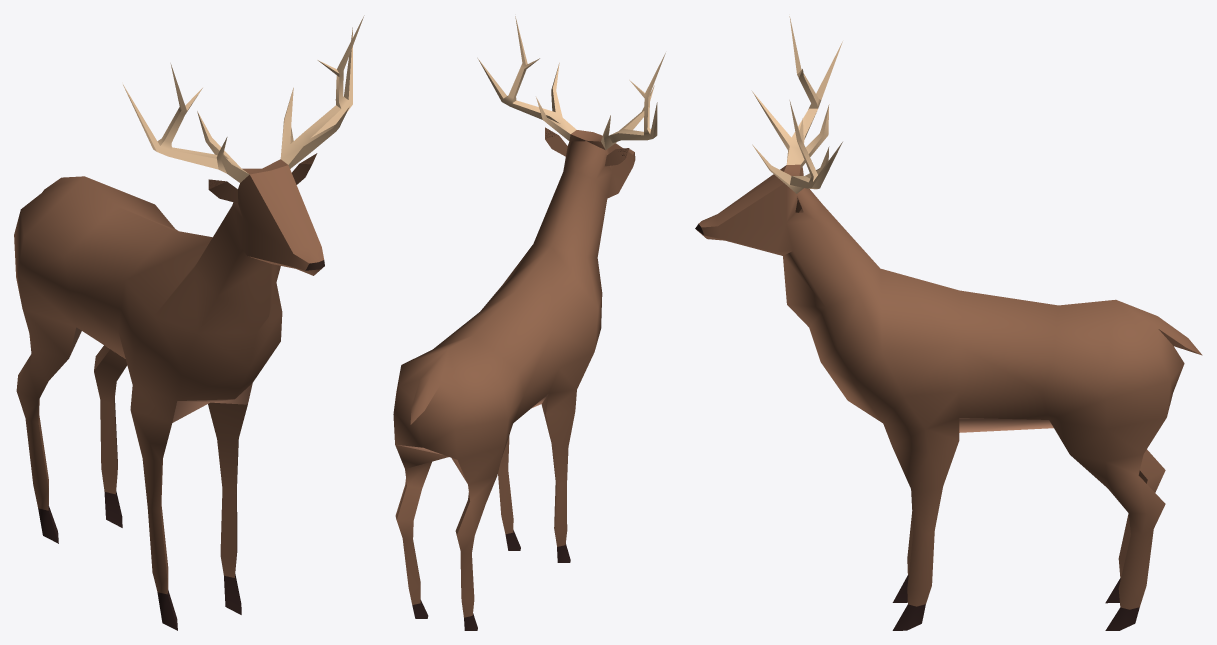
The model's file is sdeer.gltf.
3 views of the same model, side by side, from view 1: azimuth 30°, elevation 25°; view 2: azimuth 150°, elevation 25°; view 3: azimuth 270°, elevation 25° (orthographic). The views are drawn at different scales.
Visible parts, largest first — view 1: Deer-ver2; view 2: Deer-ver2; view 3: Deer-ver2.
Part boxes in pixels (x1,y1,x2,y2): Deer-ver2: (14,15,364,630); Deer-ver2: (393,16,665,630); Deer-ver2: (695,16,1202,630).
Size of the model in its own units: 0.8518 by 2.21 by 1.81.
Materials: 1 (1 with a texture image).
